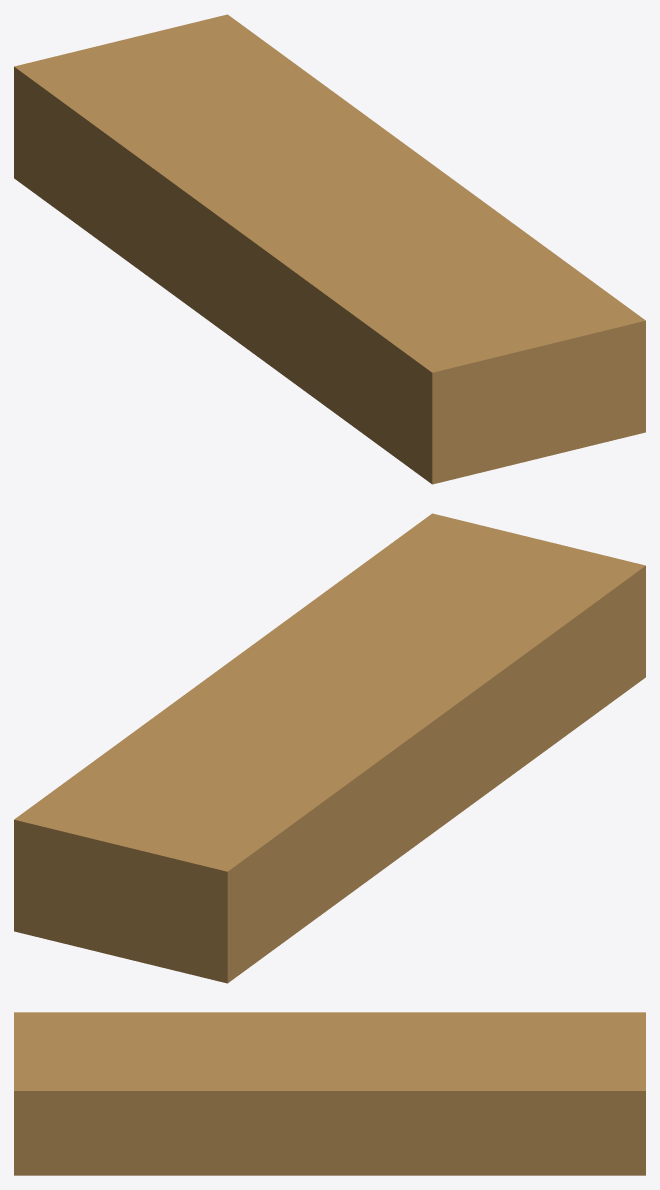
3 renders of one model, top to bottom at view 1: azimuth 30°, elevation 25°; view 2: azimuth 150°, elevation 25°; view 3: azimuth 270°, elevation 25°, orthographic. The views are drawn at different scales.
Visible parts, largest first — view 1: RUN-020-S00-NOG-00; view 2: RUN-020-S00-NOG-00; view 3: RUN-020-S00-NOG-00.
Boxes of the visible parts, box(x1,y1,x2,y2) form: RUN-020-S00-NOG-00: box(14, 14, 645, 484); RUN-020-S00-NOG-00: box(14, 513, 645, 983); RUN-020-S00-NOG-00: box(14, 1012, 645, 1175).
Bounding box in the file's own units: 0.09 × 0.045 × 0.3052.
